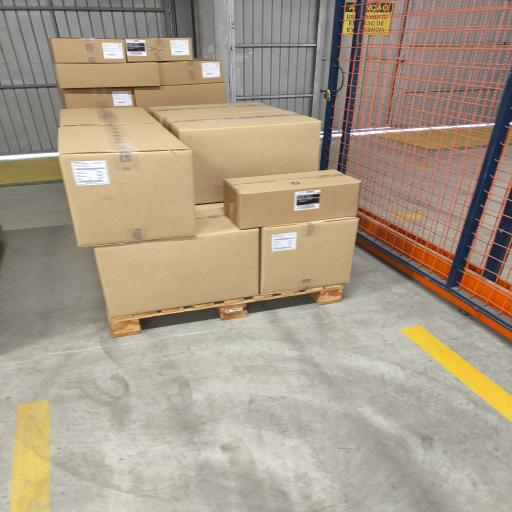pallet: (109, 285, 343, 337)
